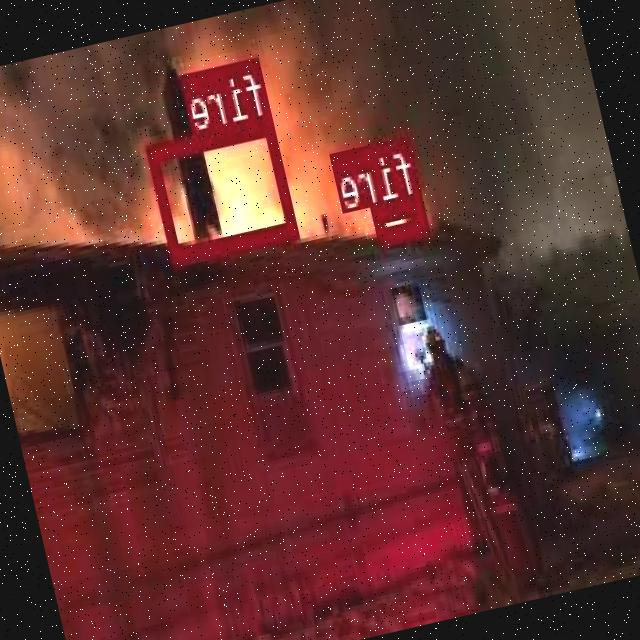fire: (147, 112, 300, 264), (374, 193, 431, 242)
